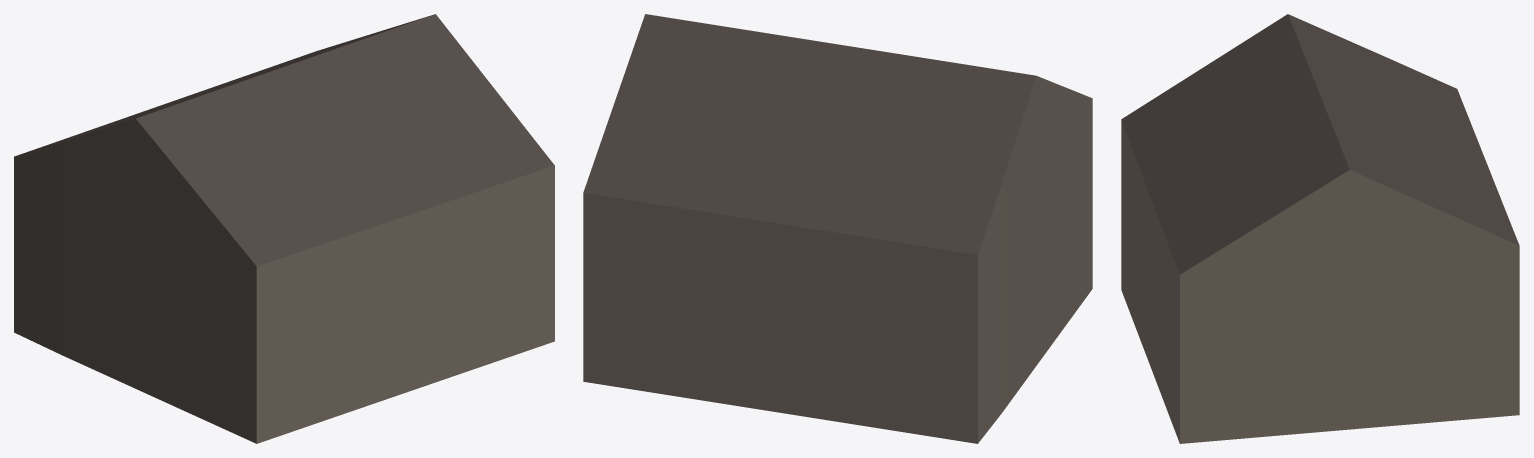
The picture shows the model from 3 angles, left to right: view 1: azimuth 30°, elevation 25°; view 2: azimuth 150°, elevation 25°; view 3: azimuth 270°, elevation 25°; orthographic projection. The views are drawn at different scales.
Parts seen in each view (by area): view 1: HP-w1196661456; view 2: HP-w1196661456; view 3: HP-w1196661456.
Part boxes in pixels (x1,y1,x2,y2): HP-w1196661456: (14,14,554,443); HP-w1196661456: (583,14,1092,443); HP-w1196661456: (1121,14,1519,443).
Size of the model in its own units: 14.14 by 9.21 by 12.81.
